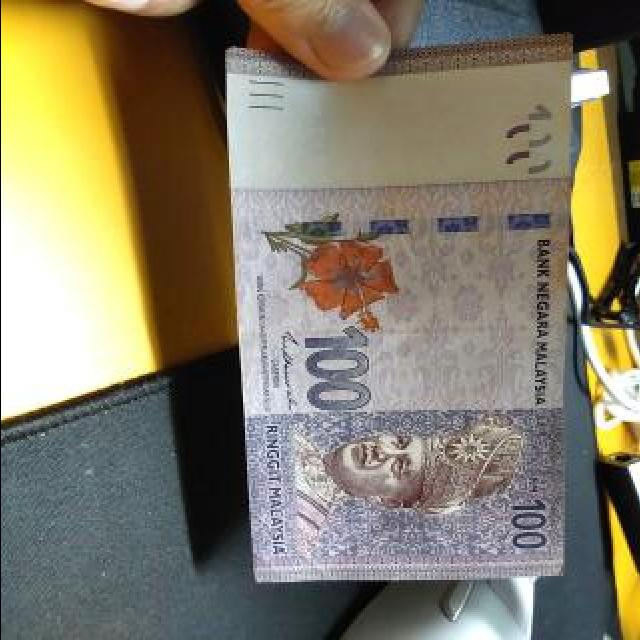100 Ringgit: (220, 30, 564, 587)
